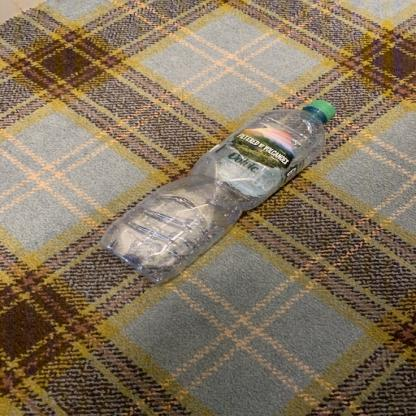trash: (98, 98, 335, 284)
